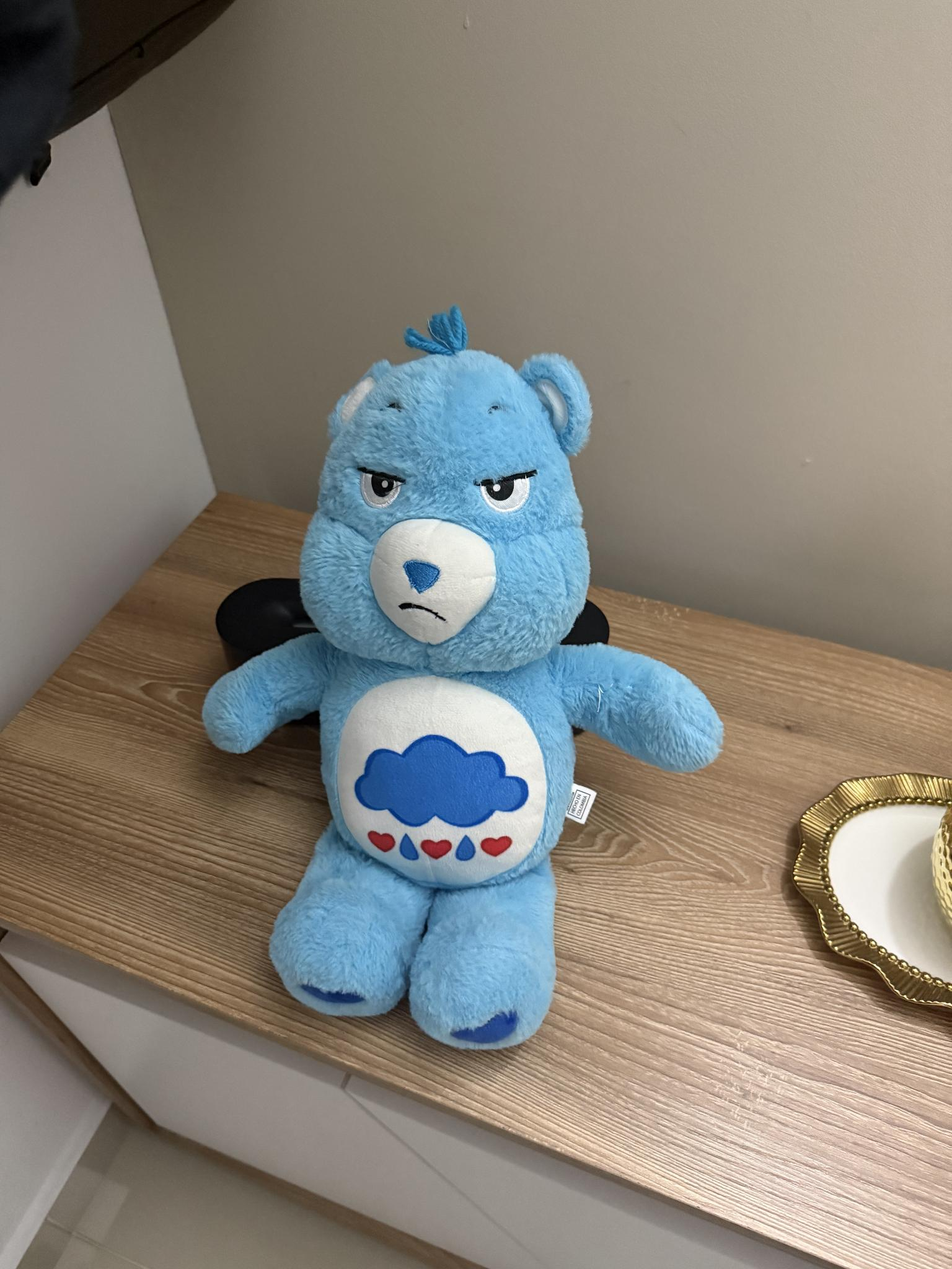peluche_Juan Jose: (198, 324, 733, 1062)
